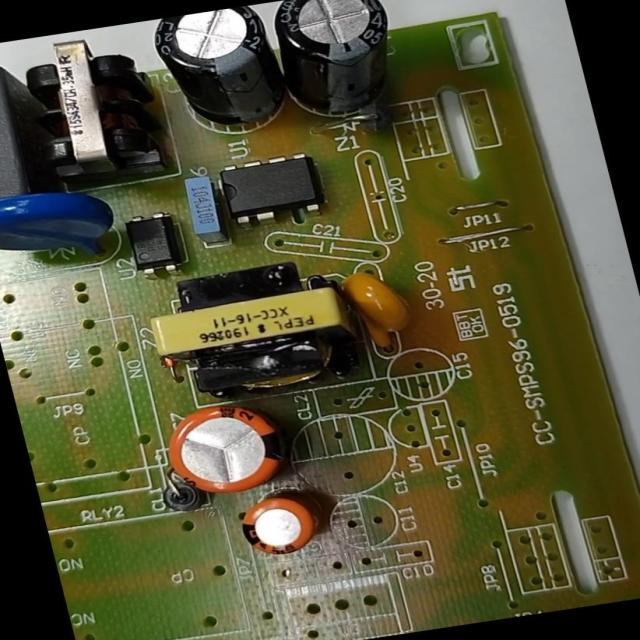Cap1: (148, 396, 293, 504)
Cap2: (228, 486, 324, 565)
Cap3: (138, 4, 290, 134)
Cap4: (259, 0, 420, 134)
MOSFET: (205, 144, 337, 238)
Mov: (0, 177, 121, 273)
Transformer: (138, 243, 383, 418), (0, 25, 181, 208)
